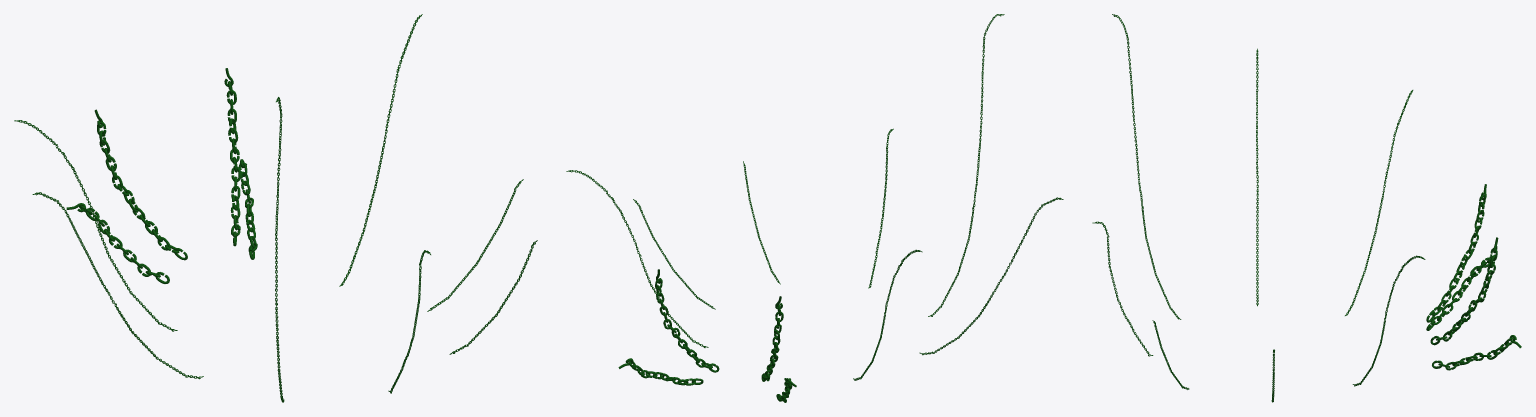
Rendered from tielian_11.fbx.
3 renders of one model, left to right at view 1: azimuth 30°, elevation 25°; view 2: azimuth 150°, elevation 25°; view 3: azimuth 270°, elevation 25°, orthographic. The views are drawn at different scales.
Visible parts, largest first — view 1: Line136, Line174, Line175, Line170, Line164; view 2: Line136, Line175, Line174, Line164; view 3: Line136, Line174, Line175, Line164, Line170.
Boxes of the visible parts, x1,y1,x2,y2 form: Line136: [14, 14, 537, 402]; Line174: [94, 109, 187, 260]; Line175: [224, 68, 241, 246]; Line170: [66, 203, 169, 283]; Line164: [238, 159, 257, 259]; Line136: [566, 14, 1063, 380]; Line175: [655, 269, 719, 372]; Line174: [761, 296, 783, 381]; Line164: [618, 358, 703, 385]; Line136: [1092, 14, 1425, 402]; Line174: [1426, 184, 1486, 322]; Line175: [1430, 237, 1498, 345]; Line164: [1432, 335, 1521, 370]; Line170: [1426, 254, 1495, 330].
Bounding box in the file's own units: 19611 × 12894 × 17363.
